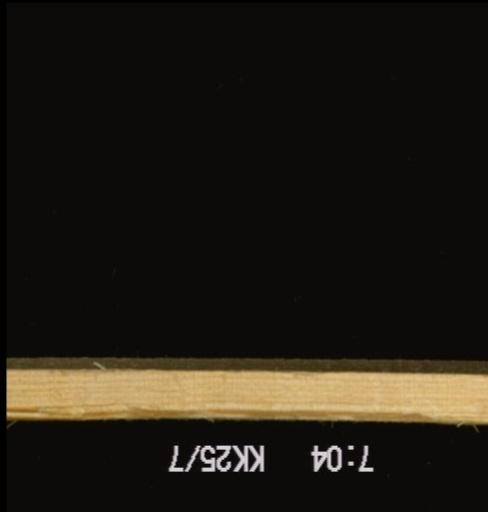split: (6, 402, 65, 420)
wave: (81, 398, 432, 420)
